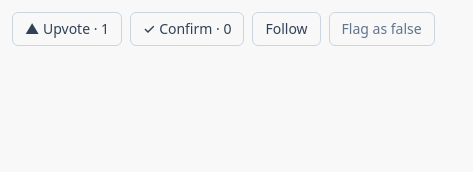
Scenario: VoteBar › shows the follow state the server returns
Click the button "Follow".
click(286, 29)  # box x1=252 y1=12 x2=321 y2=46
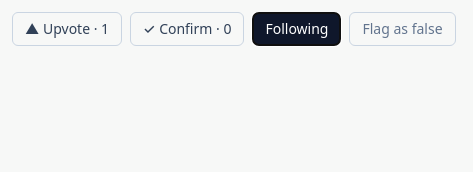
Check: the button "Following" is shown, box x1=252 y1=12 x2=341 y2=46
